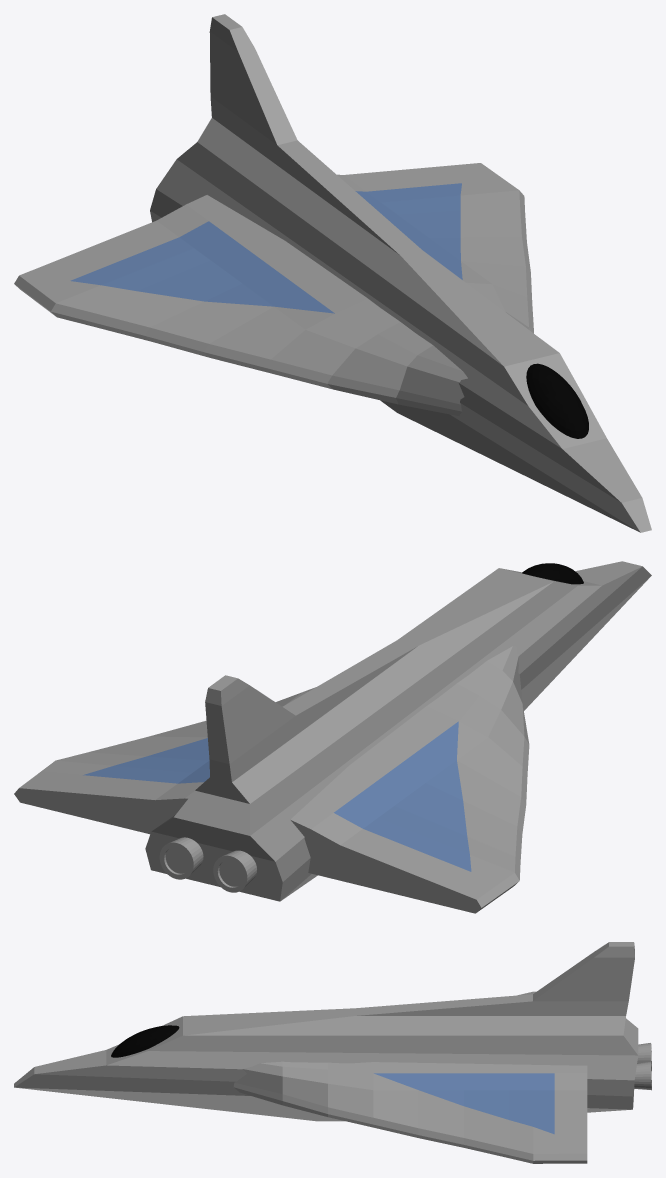
Rendered from Jet.fbx.
3 views of the same model, one above another, from view 1: azimuth 30°, elevation 25°; view 2: azimuth 150°, elevation 25°; view 3: azimuth 270°, elevation 25° (orthographic). The views are drawn at different scales.
Visible parts, largest first — view 1: Body; view 2: Body; view 3: Body.
Part boxes in pixels (x1=…): Body: x1=14, y1=14, x2=651, y2=532; Body: x1=14, y1=561, x2=651, y2=913; Body: x1=14, y1=942, x2=651, y2=1163.
Size of the model in its own units: 421 by 191 by 685.
